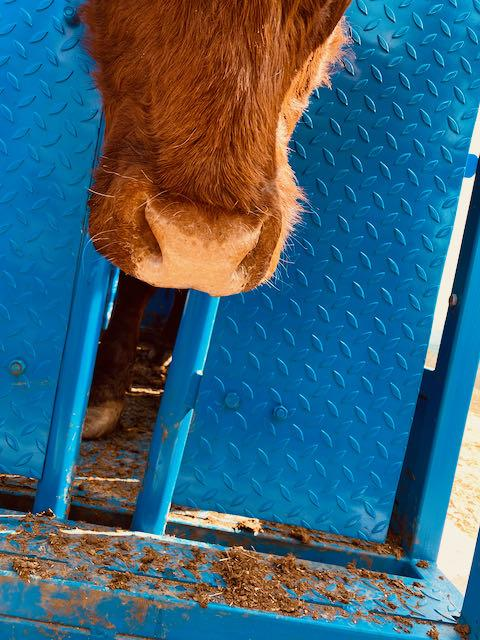muzzles: (85, 159, 291, 328)
